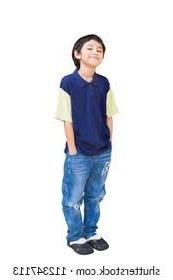Human: (53, 21, 127, 269)
